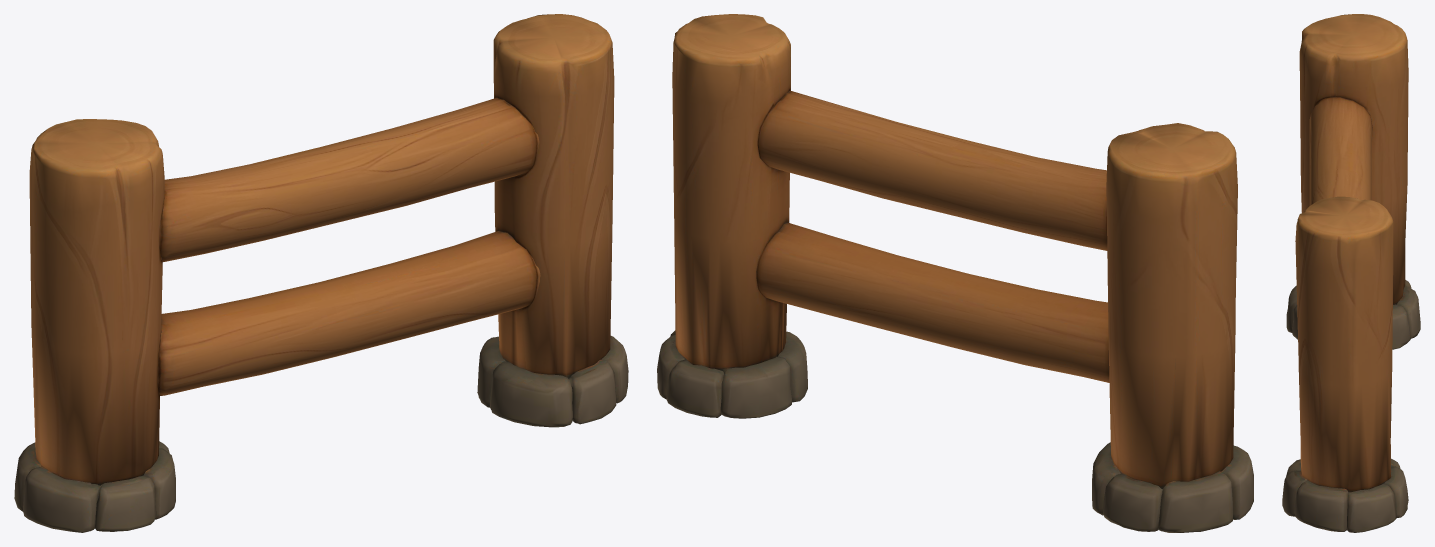
The model's file is wooden-fence.glb.
The picture shows the model from 3 angles, left to right: view 1: azimuth 30°, elevation 25°; view 2: azimuth 150°, elevation 25°; view 3: azimuth 270°, elevation 25°; orthographic projection. The views are drawn at different scales.
Visible parts, largest first — view 1: Wooden Fence; view 2: Wooden Fence; view 3: Wooden Fence.
Part boxes in pixels (x1,y1,x2,y2): Wooden Fence: (14, 14, 628, 532); Wooden Fence: (657, 14, 1253, 532); Wooden Fence: (1282, 14, 1420, 532).
Bounding box in the file's own units: 0.998 × 0.5801 × 0.248.
1 material, 1 textured.
